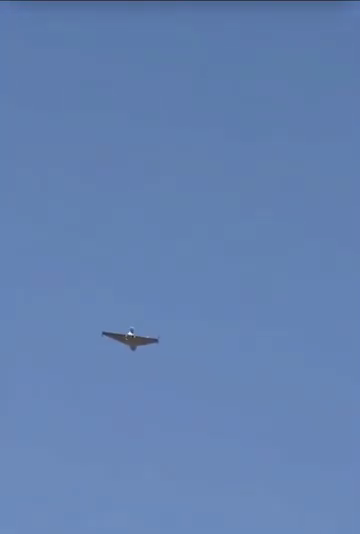shahed: (100, 325, 159, 352)
